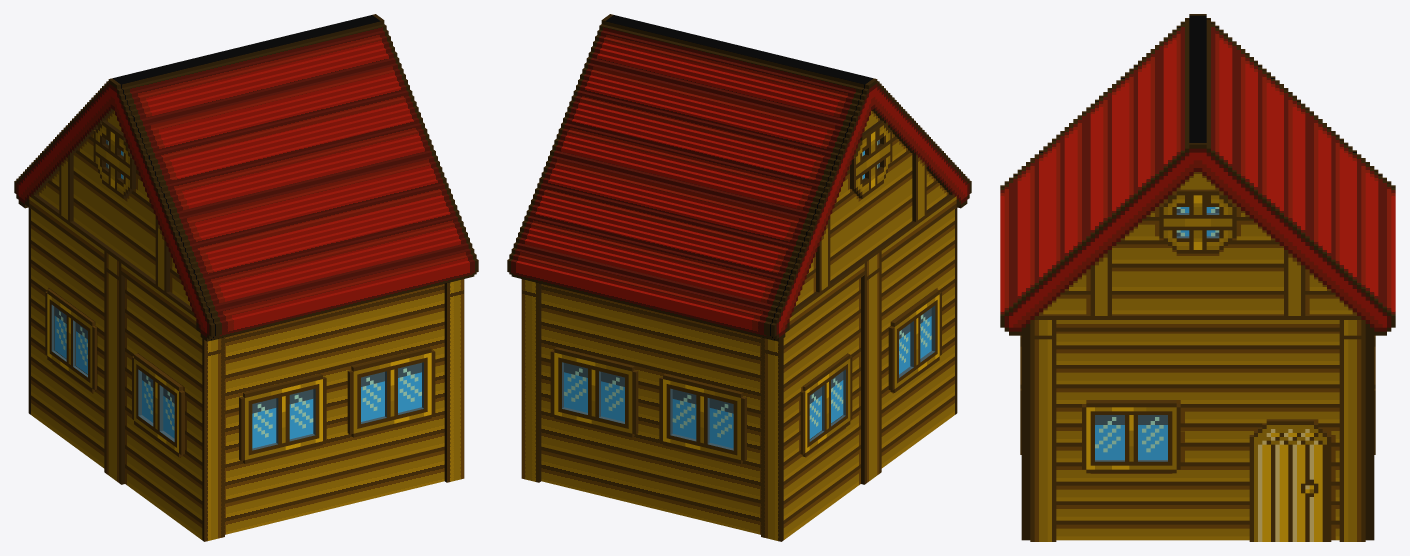
Rendered from Casa.glb.
The picture shows the model from 3 angles, left to right: view 1: azimuth 30°, elevation 25°; view 2: azimuth 150°, elevation 25°; view 3: azimuth 270°, elevation 25°; orthographic projection.
Parts seen in each view (by area): view 1: teulada-col, fachada-col, parets-col, finestra.004-col, finestra.005-col, finestra.001-col.001, finestra.003-col; view 2: teulada-col, fachada-col, parets-col, finestra.004-col, finestra.005-col, finestra.001-col.001, finestra.003-col; view 3: fachada-col, teulada-col, finestra.001-col, parets-col.
Part boxes in pixels (bbox=[...]): teulada-col: bbox=[113, 15, 474, 340]; fachada-col: bbox=[14, 14, 478, 539]; parets-col: bbox=[28, 207, 464, 541]; finestra.004-col: bbox=[347, 347, 435, 437]; finestra.005-col: bbox=[239, 373, 326, 463]; finestra.001-col.001: bbox=[132, 353, 184, 457]; finestra.003-col: bbox=[45, 289, 96, 392]; teulada-col: bbox=[511, 15, 872, 340]; fachada-col: bbox=[507, 14, 971, 539]; parets-col: bbox=[521, 207, 957, 541]; finestra.004-col: bbox=[550, 347, 638, 437]; finestra.005-col: bbox=[659, 373, 746, 463]; finestra.001-col.001: bbox=[888, 289, 941, 392]; finestra.003-col: bbox=[800, 354, 852, 456]; fachada-col: bbox=[1000, 14, 1395, 541]; teulada-col: bbox=[1000, 15, 1395, 314]; finestra.001-col: bbox=[1082, 400, 1180, 473]; parets-col: bbox=[1021, 331, 1374, 540].
Size of the model in its own units: 0.7306 by 1.02 by 0.92.
Materials: 3 (3 with a texture image).
